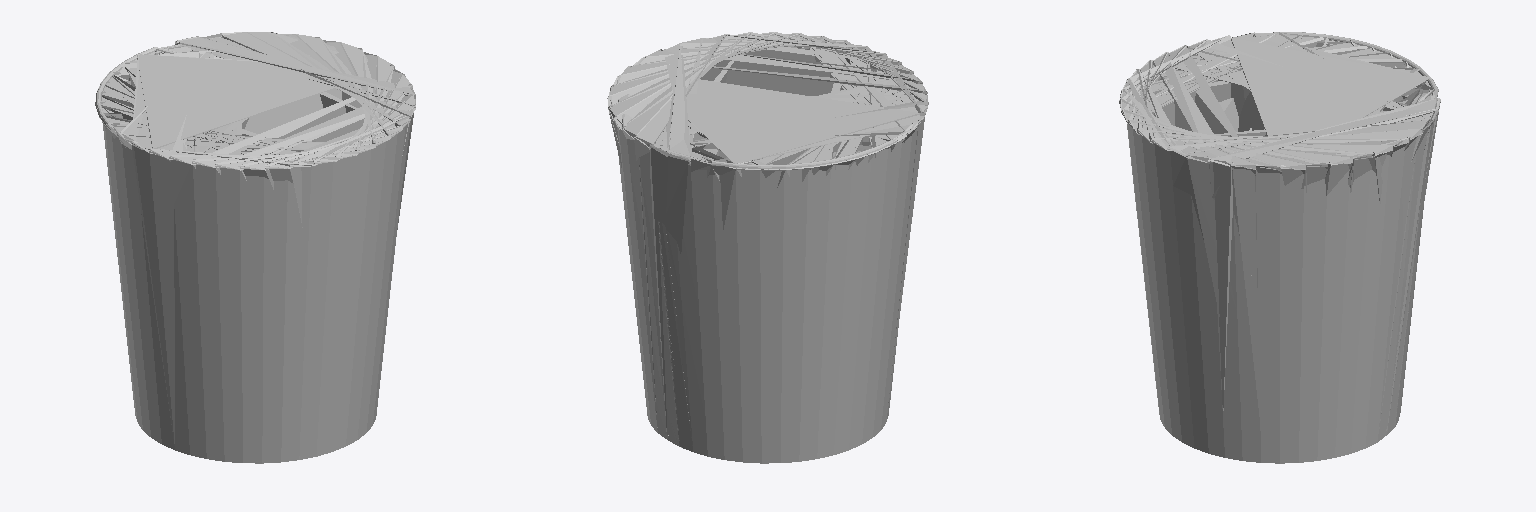
Rendered from trash.obj.
3 renders of one model, left to right at view 1: azimuth 30°, elevation 25°; view 2: azimuth 150°, elevation 25°; view 3: azimuth 270°, elevation 25°, orthographic.
Visible parts, largest first — view 1: Cylinder001, Object001, Torus002; view 2: Object001, Cylinder001, Torus002; view 3: Object001, Cylinder001, Torus002.
Part boxes in pixels (x1,y1,x2,y2): Cylinder001: (103, 45, 407, 463); Object001: (96, 32, 415, 445); Torus002: (95, 37, 383, 452); Object001: (607, 32, 928, 463); Cylinder001: (618, 127, 912, 463); Torus002: (639, 65, 923, 451); Object001: (1119, 32, 1440, 463); Cylinder001: (1127, 122, 1429, 463); Torus002: (1160, 32, 1437, 425).
Size of the model in its own units: 280 by 302 by 280.